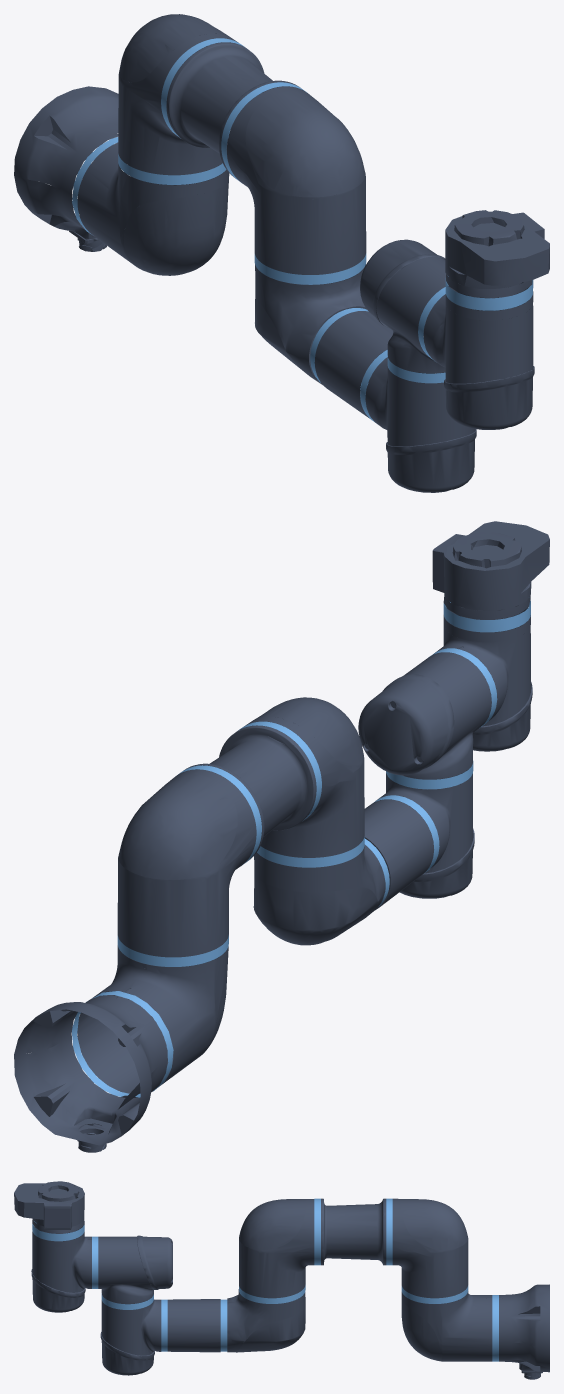
The model's file is 3kg-6axis-model.glb.
3 renders of one model, top to bottom at view 1: azimuth 30°, elevation 25°; view 2: azimuth 150°, elevation 25°; view 3: azimuth 270°, elevation 25°, orthographic. The views are drawn at different scales.
Parts seen in each view (by area): view 1: Link2, Link3, Link1, Link5, Base, Link6, Link4; view 2: Link2, Link3, Base, Link4, Link1, Link6, Link5; view 3: Link2, Link3, Link1, Link4, Base, Link5, Link6.
Boxes of the visible parts, x1,y1,x2,y2 form: Link2: (118,14,366,284); Link3: (255,264,476,492); Link1: (77,133,229,275); Link5: (423,276,534,429); Base: (14,86,173,251); Link6: (445,210,549,298); Link4: (360,239,497,373); Link2: (117,697,364,957); Link3: (253,761,474,945); Base: (14,991,173,1152); Link4: (358,648,497,779); Link1: (77,935,228,1093); Link6: (432,521,549,619); Link5: (435,597,532,751); Link2: (239,1198,468,1303); Link3: (100,1289,305,1375); Link1: (401,1285,492,1361); Link4: (92,1235,172,1303); Base: (492,1284,549,1379); Link5: (31,1221,91,1312); Link6: (14,1181,84,1233).
Size of the model in its own units: 0.1341 by 0.3151 by 0.82.
